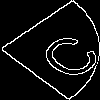C: (25, 25, 100, 83)
